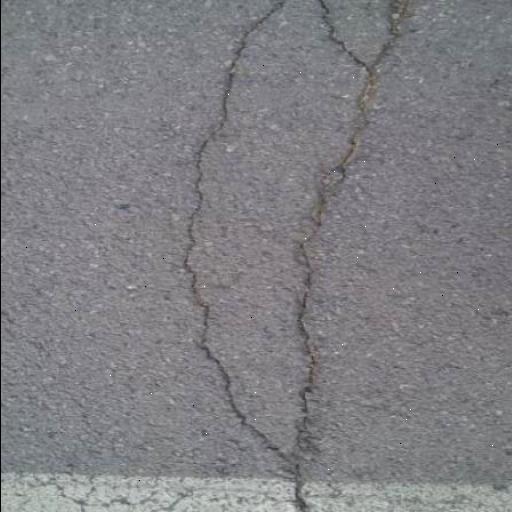spalling: (279, 9, 422, 505), (168, 0, 304, 470), (304, 1, 366, 76)
